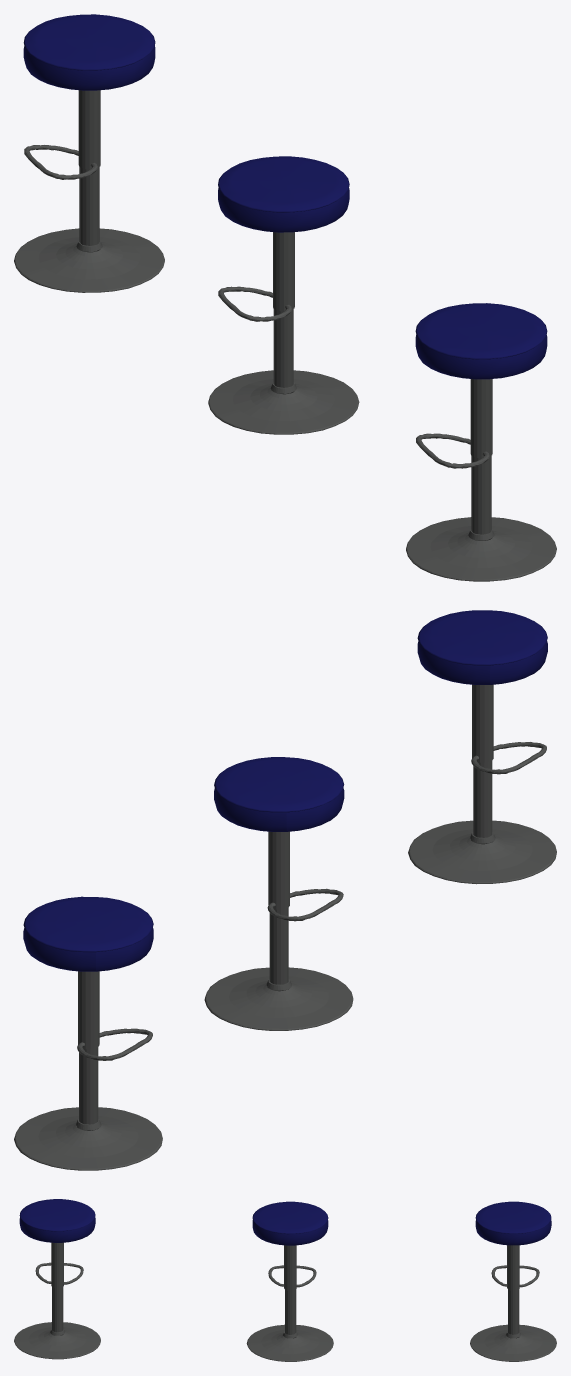
The model's file is compressed_Decors_8.glb.
The picture shows the model from 3 angles, top to bottom: view 1: azimuth 30°, elevation 25°; view 2: azimuth 150°, elevation 25°; view 3: azimuth 270°, elevation 25°; orthographic projection. The views are drawn at different scales.
Visible parts, largest first — view 1: Stool2.002, Stool2, Stool2.001; view 2: Stool2, Stool2.002, Stool2.001; view 3: Stool2.001, Stool2, Stool2.002.
Part boxes in pixels (bbox=[...]): Stool2.002: bbox=[406, 303, 556, 581]; Stool2: bbox=[14, 14, 164, 292]; Stool2.001: bbox=[208, 156, 359, 434]; Stool2: bbox=[14, 896, 162, 1170]; Stool2.002: bbox=[408, 610, 556, 884]; Stool2.001: bbox=[204, 757, 353, 1030]; Stool2.001: bbox=[246, 1201, 333, 1361]; Stool2: bbox=[470, 1201, 556, 1361]; Stool2.002: bbox=[14, 1199, 100, 1359].
Size of the model in its own units: 0.8818 by 1.4 by 5.34.
